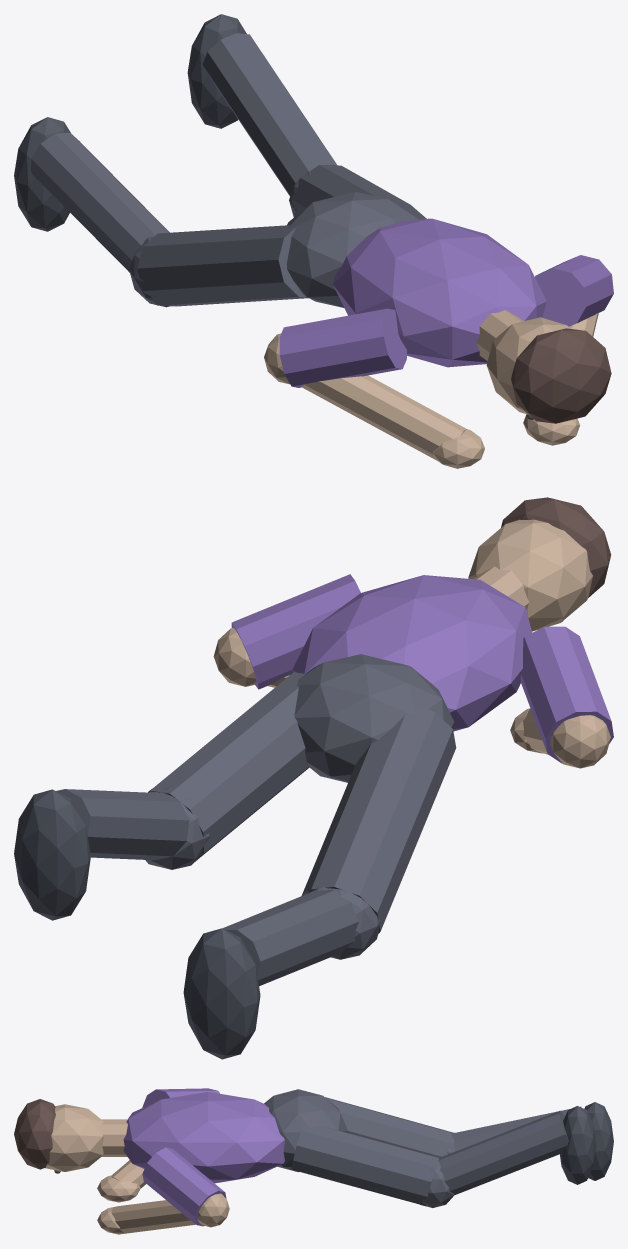
3 views of the same model, one above another, from view 1: azimuth 30°, elevation 25°; view 2: azimuth 150°, elevation 25°; view 3: azimuth 270°, elevation 25° (orthographic). The views are drawn at different scales.
Visible parts, largest first — view 1: world; view 2: world; view 3: world.
Boxes of the visible parts, x1,y1,x2,y2 form: world: (14,14,613,468); world: (14,497,613,1059); world: (14,1088,613,1234).
Bounding box in the file's own units: 0.93 × 0.4905 × 2.06.
